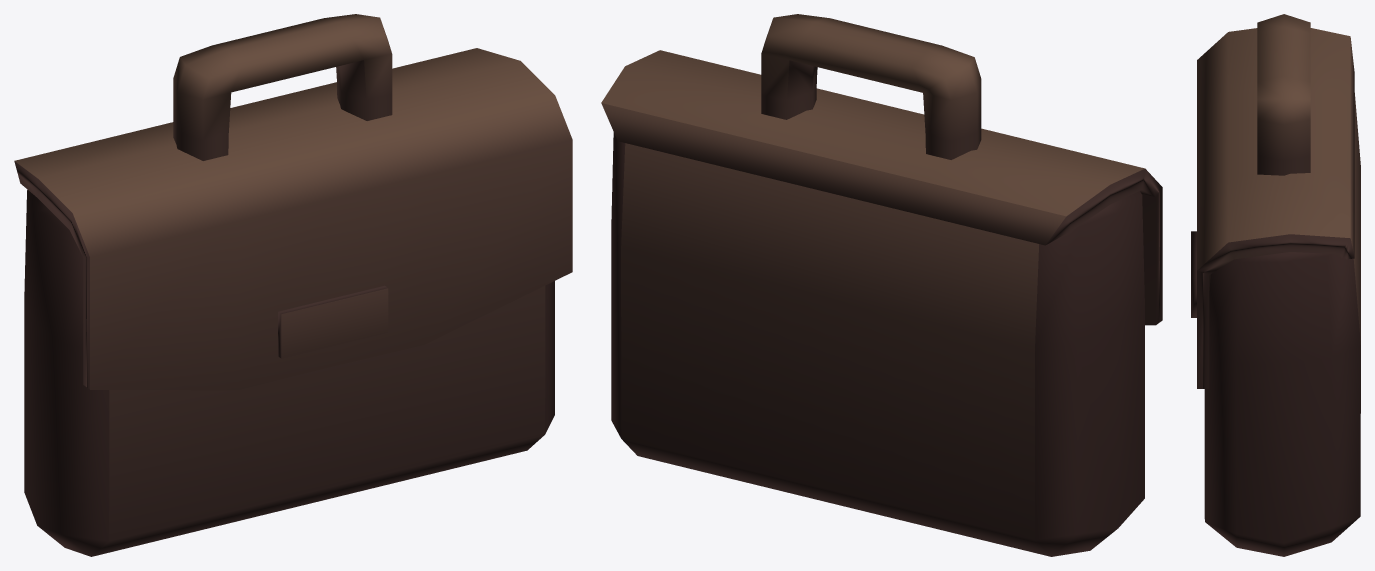
Rendered from human-clothing-briefcase_v1.glb.
3 views of the same model, side by side, from view 1: azimuth 30°, elevation 25°; view 2: azimuth 150°, elevation 25°; view 3: azimuth 270°, elevation 25° (orthographic). The views are drawn at different scales.
Visible parts, largest first — view 1: Briefcase; view 2: Briefcase; view 3: Briefcase.
Boxes of the visible parts, x1,y1,x2,y2 form: Briefcase: [14, 14, 572, 556]; Briefcase: [601, 14, 1162, 556]; Briefcase: [1191, 14, 1360, 556].
Size of the model in its own units: 0.45 by 0.4017 by 0.1508.
